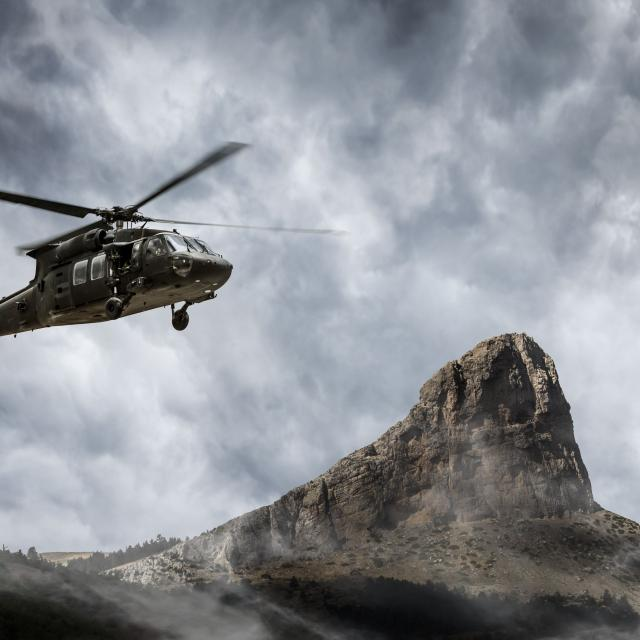helicopter: (1, 149, 226, 372)
